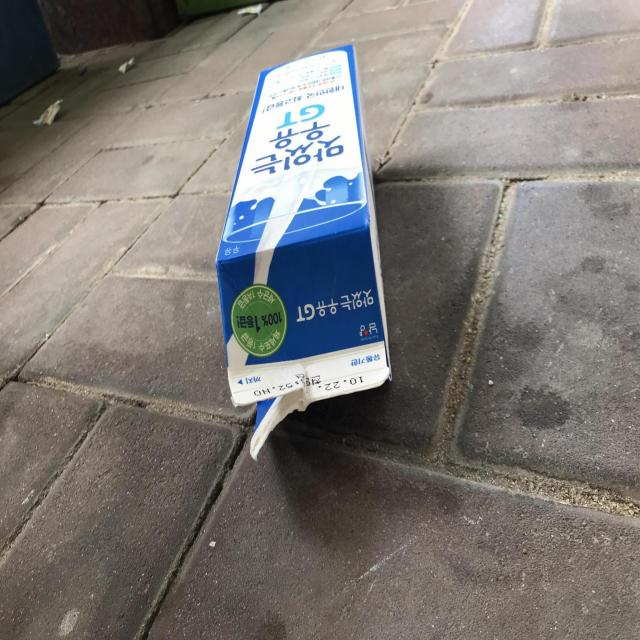paperpack: (216, 44, 391, 459)
